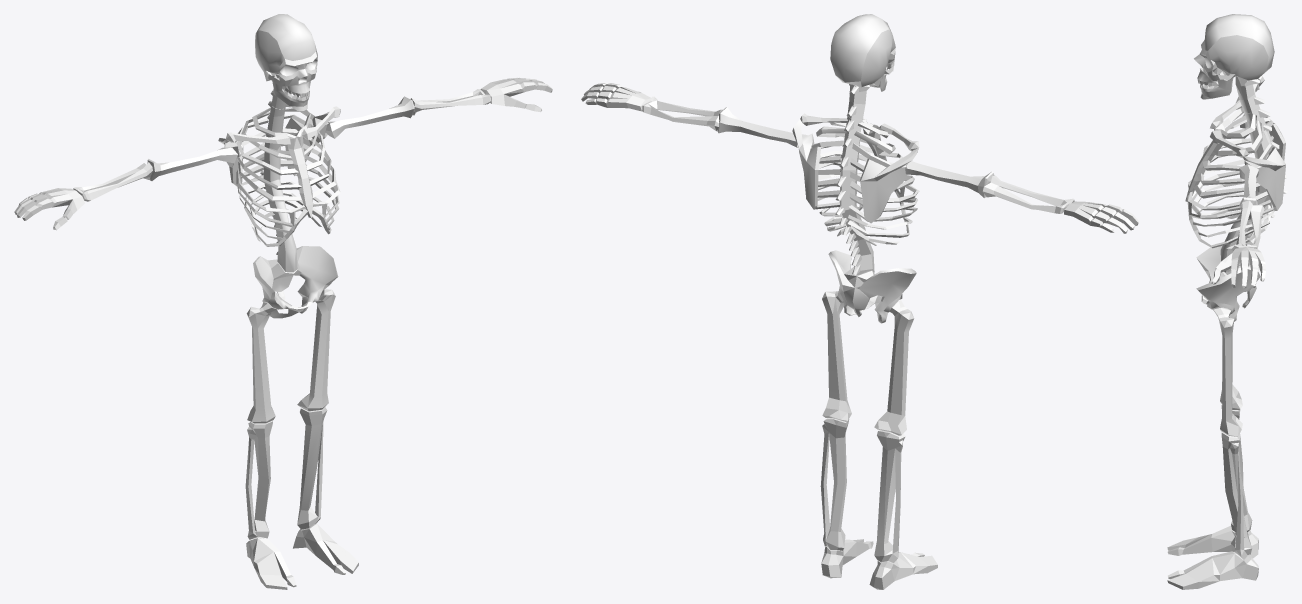
Rendered from esqueleto 1.fbx.
3 views of the same model, side by side, from view 1: azimuth 30°, elevation 25°; view 2: azimuth 150°, elevation 25°; view 3: azimuth 270°, elevation 25° (orthographic). The views are drawn at different scales.
Visible parts, largest first — view 1: PT_Male_Armor_Skeleton_01_body, PT_Male_Armor_Skeleton_01_legs, PT_Male_Armor_Skeleton_01_head, PT_Male_Armor_Skeleton_01_boots, PT_Male_Armor_Skeleton_01_gauntlets; view 2: PT_Male_Armor_Skeleton_01_body, PT_Male_Armor_Skeleton_01_legs, PT_Male_Armor_Skeleton_01_head, PT_Male_Armor_Skeleton_01_gauntlets, PT_Male_Armor_Skeleton_01_boots; view 3: PT_Male_Armor_Skeleton_01_body, PT_Male_Armor_Skeleton_01_legs, PT_Male_Armor_Skeleton_01_head, PT_Male_Armor_Skeleton_01_boots, PT_Male_Armor_Skeleton_01_gauntlets.
Part boxes in pixels (bbox=[...]): PT_Male_Armor_Skeleton_01_body: bbox=[73, 89, 490, 272]; PT_Male_Armor_Skeleton_01_legs: bbox=[245, 246, 338, 539]; PT_Male_Armor_Skeleton_01_head: bbox=[255, 14, 317, 110]; PT_Male_Armor_Skeleton_01_boots: bbox=[246, 523, 358, 589]; PT_Male_Armor_Skeleton_01_gauntlets: bbox=[14, 77, 552, 230]; PT_Male_Armor_Skeleton_01_body: bbox=[642, 96, 1074, 275]; PT_Male_Armor_Skeleton_01_legs: bbox=[820, 250, 916, 563]; PT_Male_Armor_Skeleton_01_head: bbox=[830, 14, 895, 119]; PT_Male_Armor_Skeleton_01_gauntlets: bbox=[581, 83, 1138, 233]; PT_Male_Armor_Skeleton_01_boots: bbox=[821, 539, 937, 589]; PT_Male_Armor_Skeleton_01_body: bbox=[1185, 76, 1287, 272]; PT_Male_Armor_Skeleton_01_legs: bbox=[1196, 242, 1260, 559]; PT_Male_Armor_Skeleton_01_head: bbox=[1194, 14, 1274, 113]; PT_Male_Armor_Skeleton_01_boots: bbox=[1167, 525, 1258, 589]; PT_Male_Armor_Skeleton_01_gauntlets: bbox=[1211, 247, 1265, 288].
Size of the model in its own units: 183 by 178 by 35.2.
